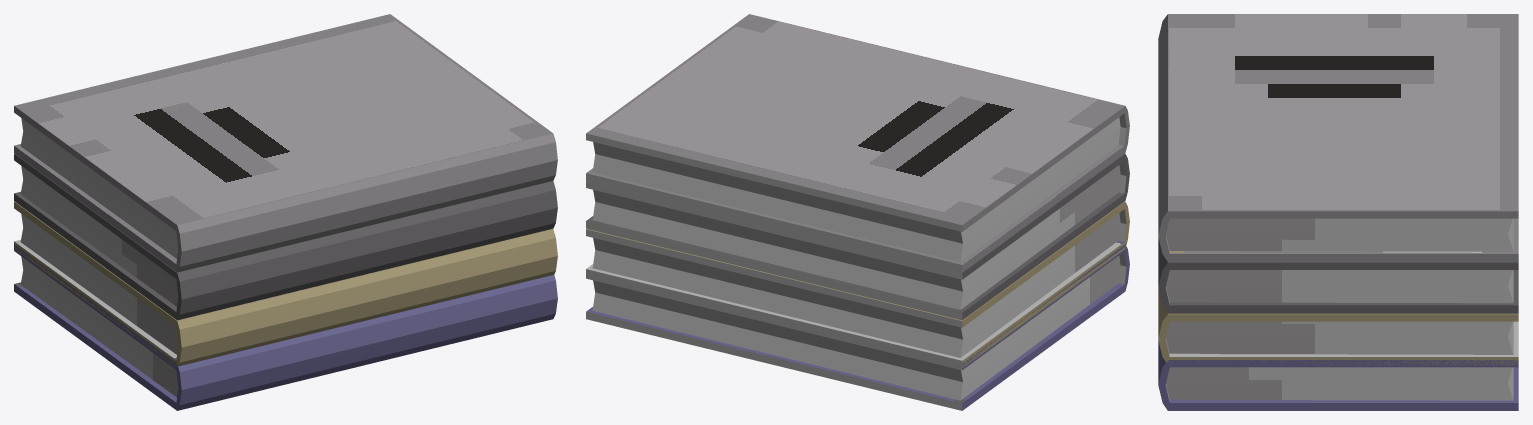
Rendered from book2.fbx.
3 views of the same model, side by side, from view 1: azimuth 30°, elevation 25°; view 2: azimuth 150°, elevation 25°; view 3: azimuth 270°, elevation 25° (orthographic). The views are drawn at different scales.
Visible parts, largest first — view 1: Cube.001; view 2: Cube.001; view 3: Cube.001.
Boxes of the visible parts, left/top/right/bottom form: Cube.001: left=14, top=14, right=557, bottom=410; Cube.001: left=586, top=14, right=1129, bottom=410; Cube.001: left=1158, top=14, right=1518, bottom=410.
Size of the model in its own units: 188 by 88.64 by 145.
Materials: 1 (1 with a texture image).
